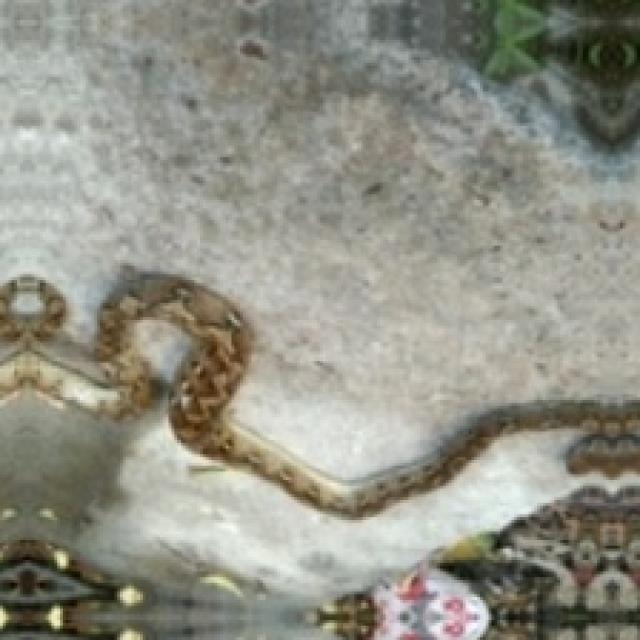reticulated python: (0, 268, 640, 517)
